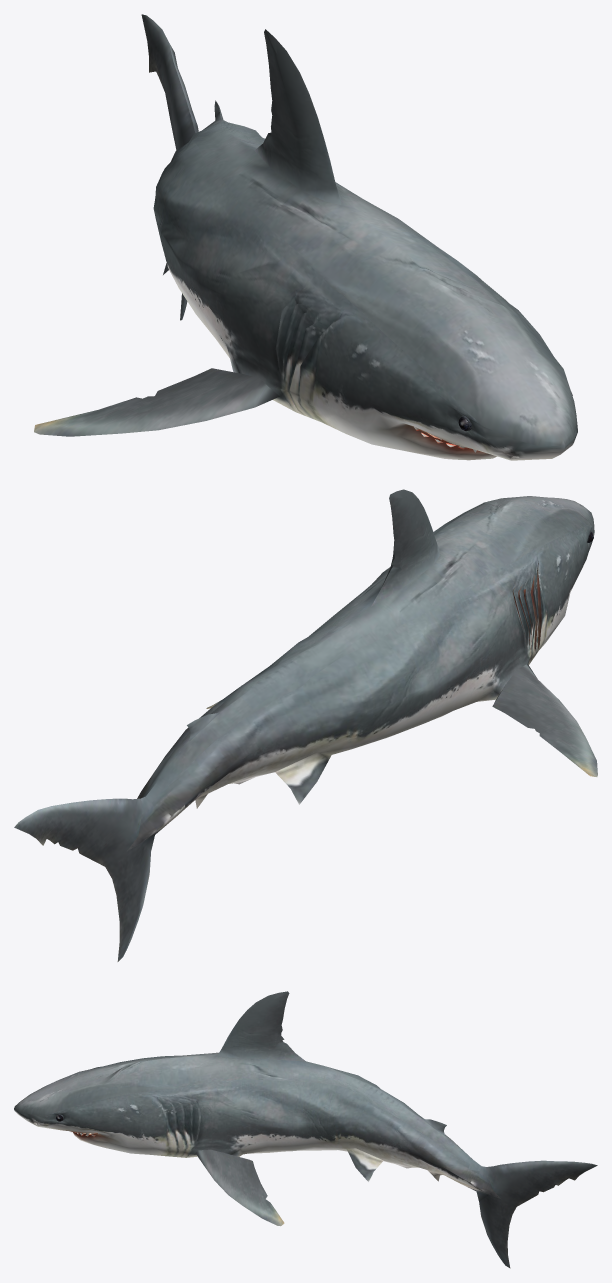
3 renders of one model, top to bottom at view 1: azimuth 30°, elevation 25°; view 2: azimuth 150°, elevation 25°; view 3: azimuth 270°, elevation 25°, orthographic. The views are drawn at different scales.
Parts seen in each view (by area): view 1: shark_01; view 2: shark_01; view 3: shark_01.
Part boxes in pixels (x1,y1,x2,y2): shark_01: [34, 14, 577, 460]; shark_01: [14, 489, 597, 961]; shark_01: [14, 991, 597, 1268].
Bounding box in the file's own units: 4.1 × 3.8 × 8.25.
5 materials, 5 textured.
